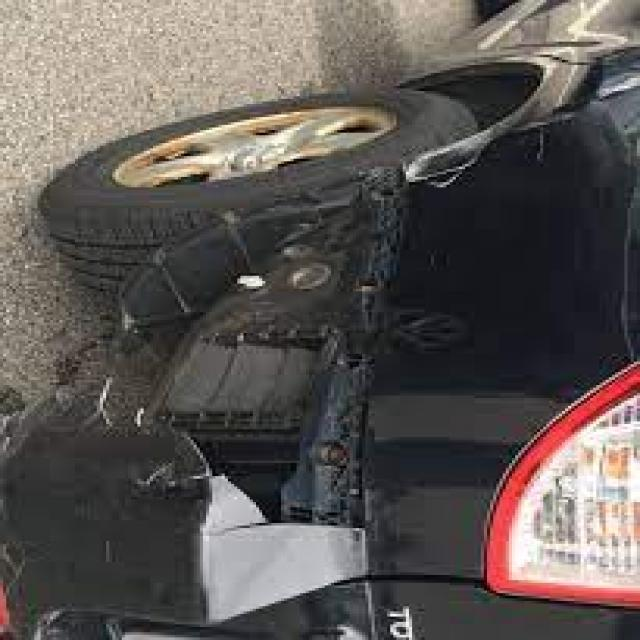damaged-rear-bumper: (24, 210, 393, 640)
